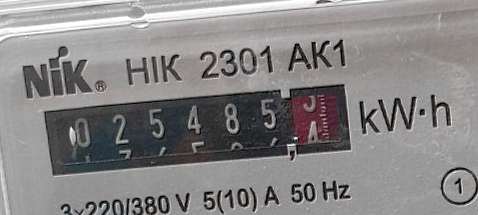0: (70, 114, 94, 150)
2: (109, 111, 132, 147)
4: (182, 101, 206, 137), (303, 117, 324, 147)
5: (257, 95, 281, 133), (145, 104, 168, 141)
8: (221, 98, 244, 138)
screen: (34, 75, 361, 188)
